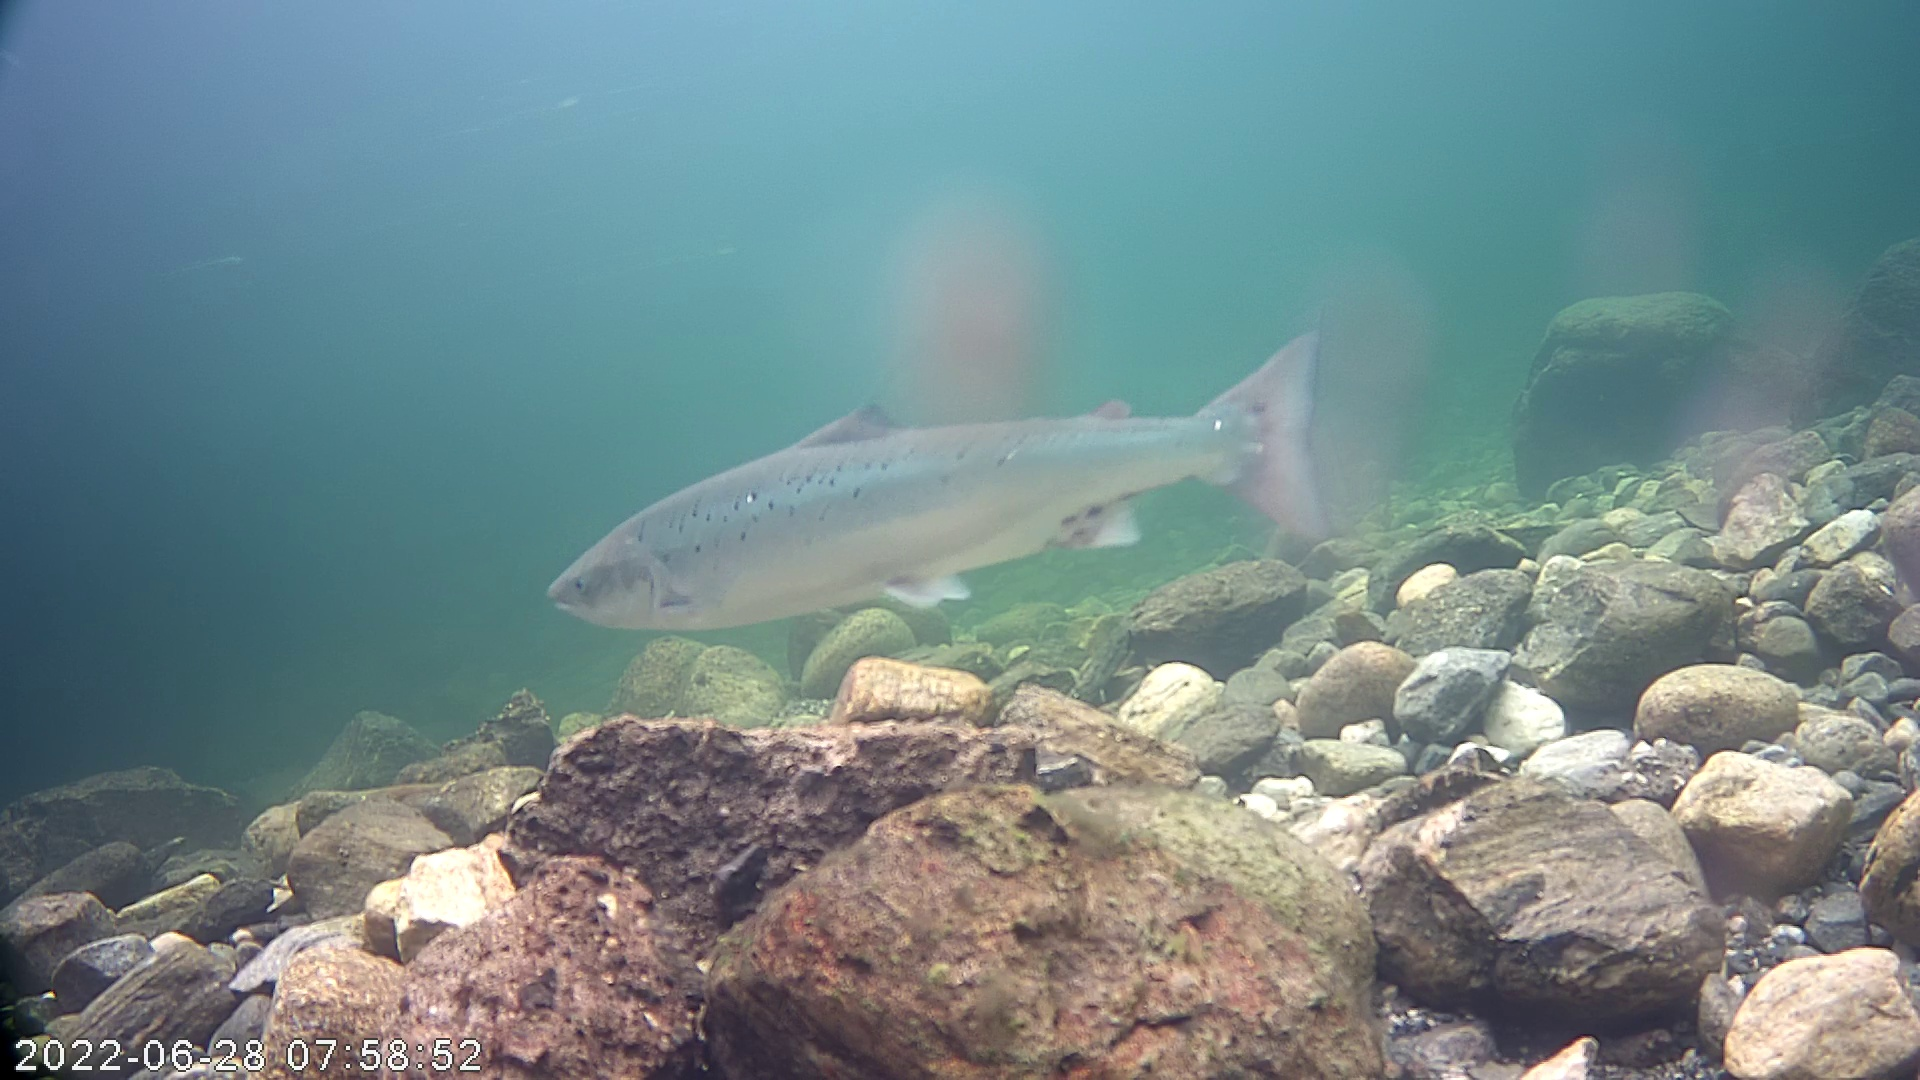salmon: (535, 229, 1371, 687)
